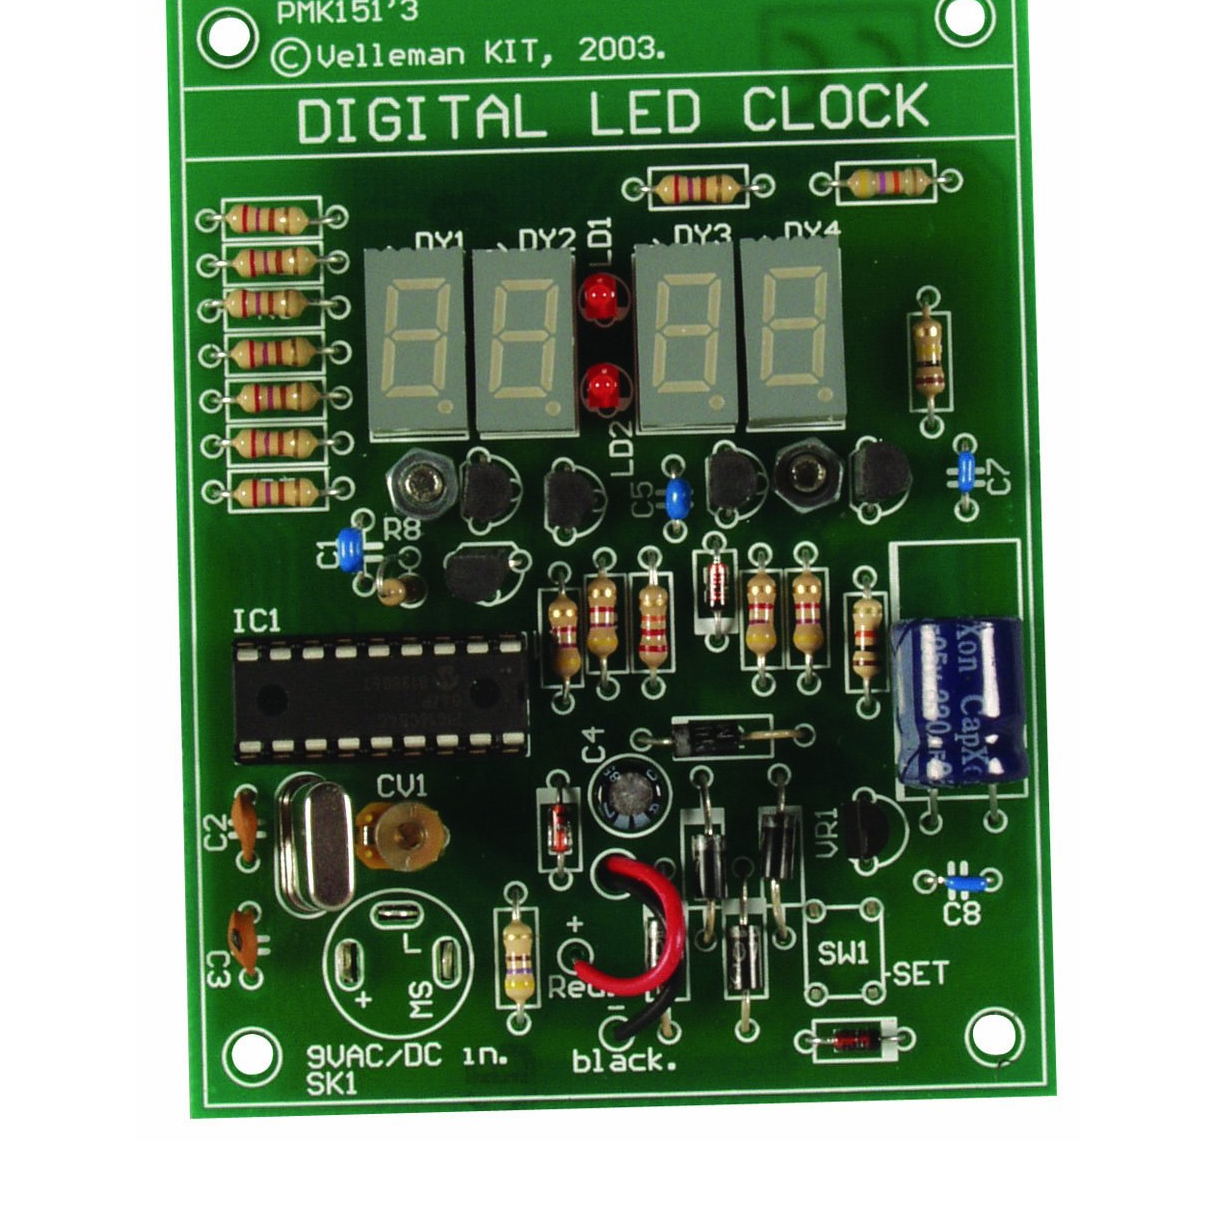Capacitor: (887, 610, 1035, 798), (587, 755, 672, 834)
Diode: (670, 717, 762, 758), (723, 917, 769, 997), (686, 824, 730, 905), (755, 810, 801, 886), (543, 798, 579, 862), (701, 556, 733, 615), (828, 1025, 887, 1054)
LED: (583, 365, 626, 409), (583, 274, 620, 322)
Resistor: (497, 915, 541, 1008), (847, 594, 887, 681), (543, 592, 581, 683), (228, 244, 324, 279), (653, 172, 743, 209), (223, 204, 320, 237), (744, 572, 780, 662), (633, 584, 670, 671), (841, 166, 932, 200), (912, 315, 948, 399), (238, 379, 323, 415), (228, 336, 317, 369), (789, 573, 824, 656), (229, 477, 324, 508), (223, 286, 313, 318), (585, 574, 619, 661), (231, 428, 324, 460), (374, 572, 428, 607)
